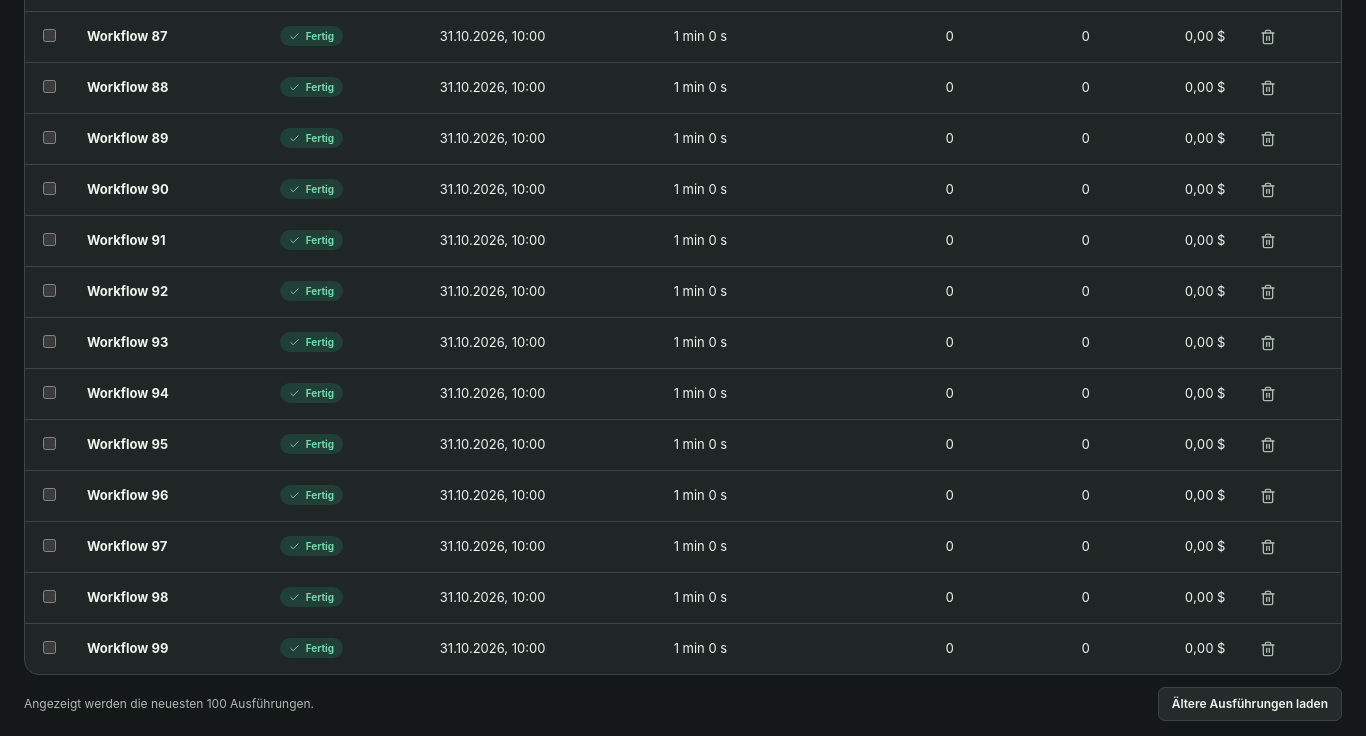
Test case: ExecutionsPage list limit › says that only the newest 100 runs are shown and loads older ones on request
(page scrolled)
Expected: the text "Angezeigt werden die neuesten 100 Ausführungen." is shown, [24,694,314,712]
Step 1. Click the button "Ältere Ausführungen laden" → (1250, 704), box [1158,686,1342,720]
(page scrolled)
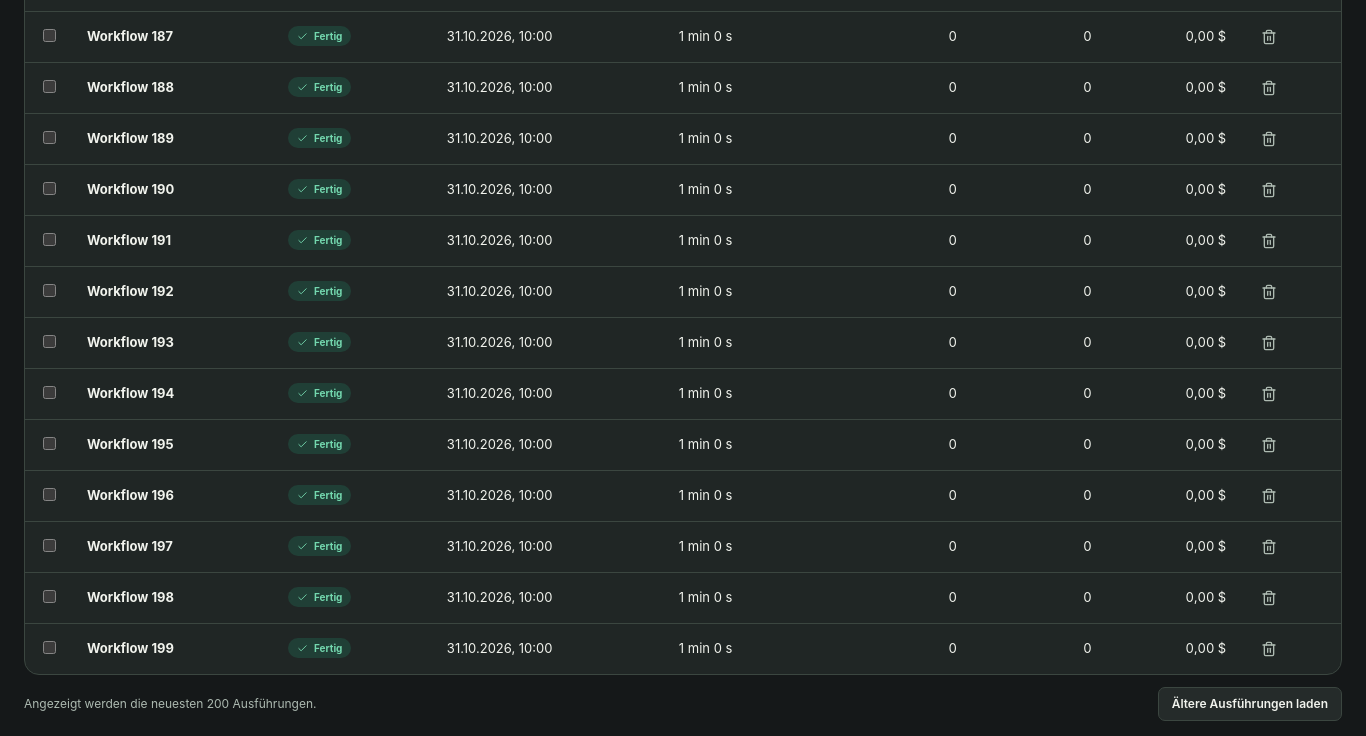
Result: the text "Angezeigt werden die neuesten 200 Ausführungen." is shown at [24,694,316,712]
Step 2. Click the button "Ältere Ausführungen laden" → (1250, 704), box [1158,686,1342,720]
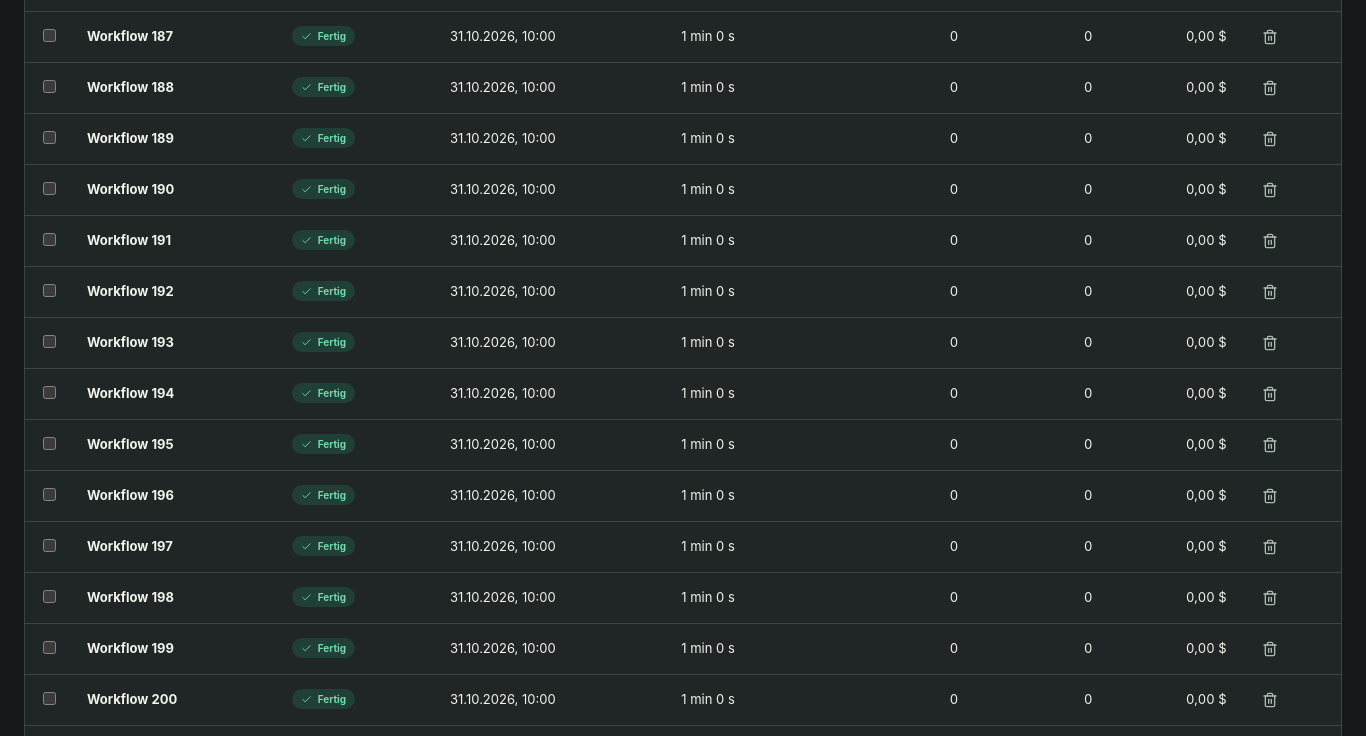
Result: the element with test id "runs-limit" is gone
